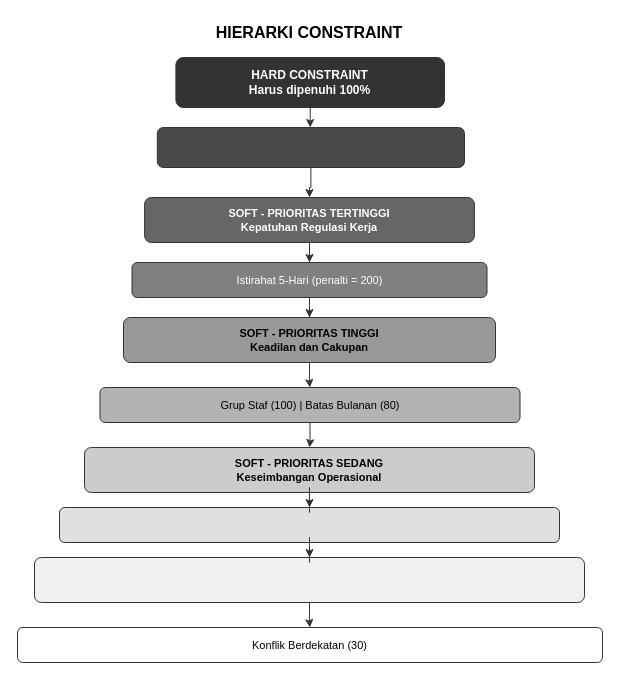
The diagram is 620 pixels wide and 680 high, and some of its shapes have lost their labels. Each missing label, with the centre of its shape:
"Satu Shift Per Hari | Sel Pre-filled | Aturan Kalender" goes at point (310, 147).
"SOFT - PRIORITAS RENDAH Kualitas Hidup" goes at point (309, 579).
"Tipe Staf (60) | Batas Harian (50)" goes at point (309, 524).
